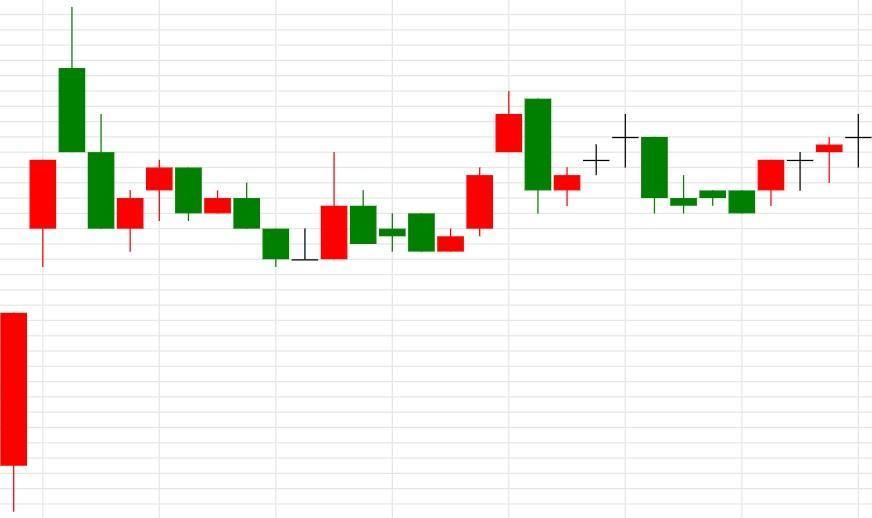morning_star_rise: (145, 151, 349, 268)
three_white_soldiers_rise: (349, 91, 523, 252)
